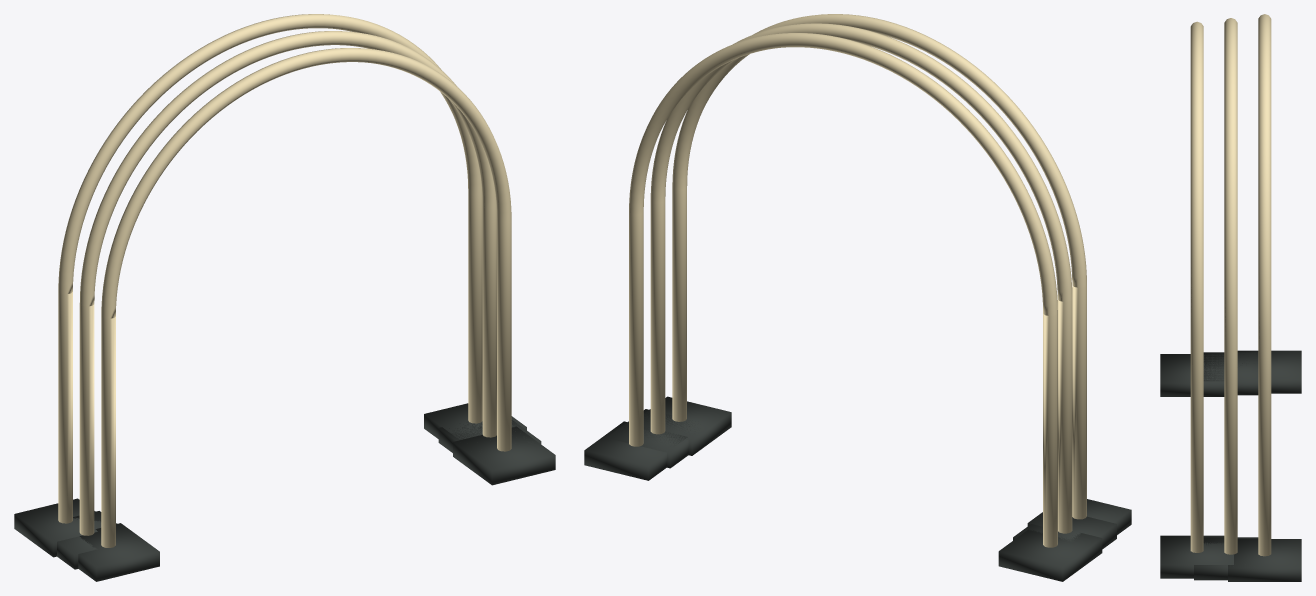
File: portal-arch-triple.glb
3 views of the same model, side by side, from view 1: azimuth 30°, elevation 25°; view 2: azimuth 150°, elevation 25°; view 3: azimuth 270°, elevation 25° (orthographic). The views are drawn at different scales.
Visible parts, largest first — view 1: arch-frame-0, feet-1; view 2: arch-frame-0, feet-1; view 3: arch-frame-0, feet-1.
Boxes of the visible parts, box(x1,y1,x2,y2) form: arch-frame-0: box(58, 14, 511, 547); feet-1: box(14, 403, 555, 581); arch-frame-0: box(629, 14, 1086, 547); feet-1: box(584, 396, 1131, 581); arch-frame-0: box(1190, 14, 1271, 556); feet-1: box(1160, 350, 1301, 581).
Size of the model in its own units: 3.35 by 3.14 by 0.92.
